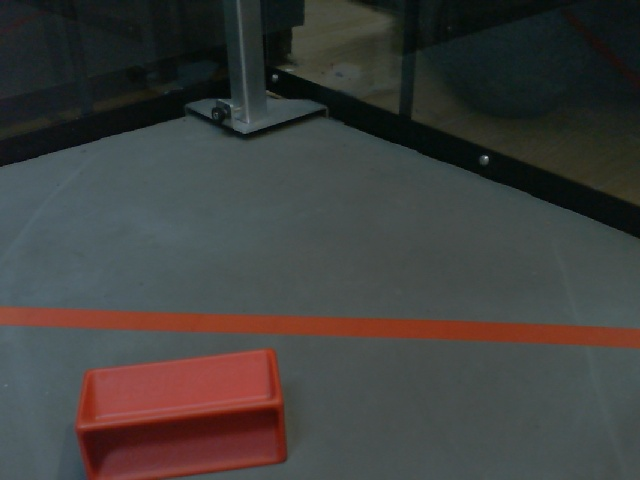RedSample: (73, 342, 291, 480)
